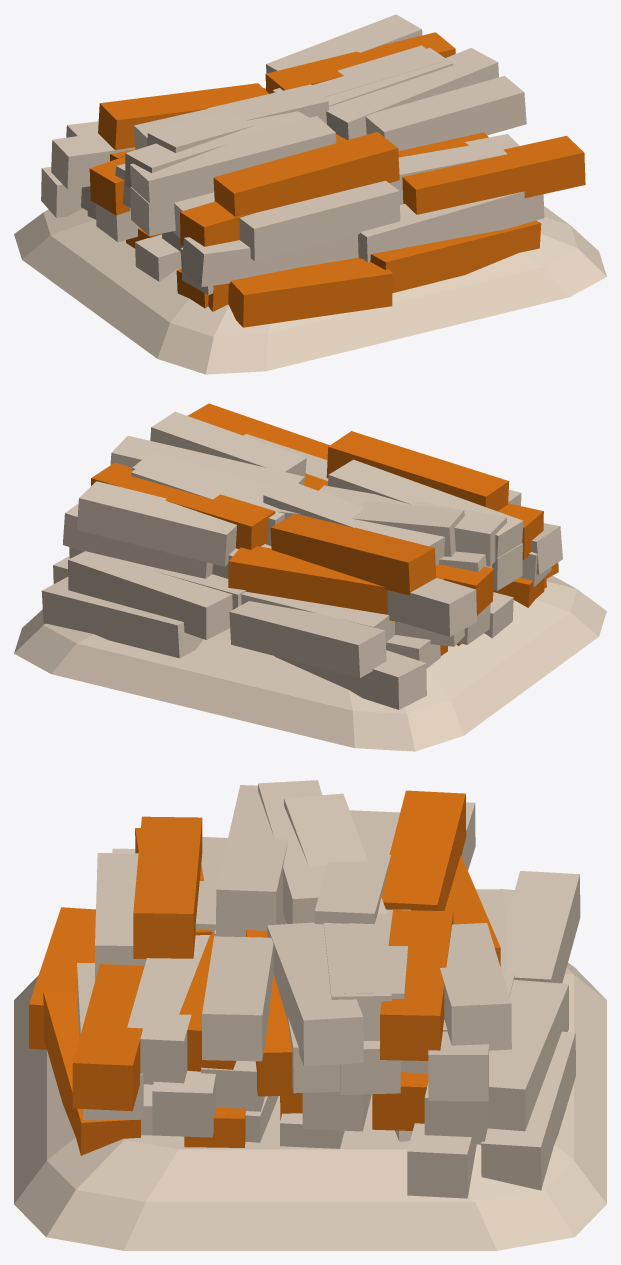
Rendered from SM_Cook_Topping_Pickle_HD_01.fbx.
3 renders of one model, top to bottom at view 1: azimuth 30°, elevation 25°; view 2: azimuth 150°, elevation 25°; view 3: azimuth 270°, elevation 25°, orthographic. The views are drawn at different scales.
Parts seen in each view (by area): view 1: SM_Cook_Topping_Pickle_HD_01; view 2: SM_Cook_Topping_Pickle_HD_01; view 3: SM_Cook_Topping_Pickle_HD_01.
Part boxes in pixels (x1,y1,x2,y2): SM_Cook_Topping_Pickle_HD_01: (14,14,606,374); SM_Cook_Topping_Pickle_HD_01: (14,403,606,751); SM_Cook_Topping_Pickle_HD_01: (14,780,606,1250).
Bounding box in the file's own units: 0.128 × 0.0417 × 0.108.
Materials: 1 (1 with a texture image).
